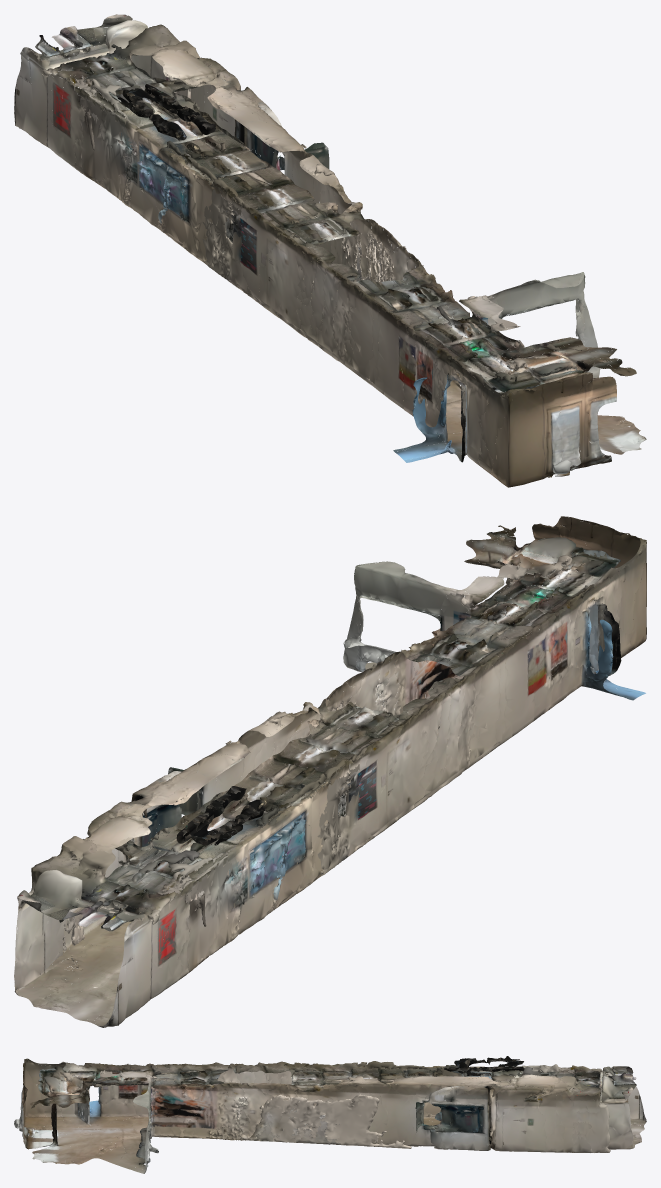
Rendered from floor_parts.fbx.
3 renders of one model, top to bottom at view 1: azimuth 30°, elevation 25°; view 2: azimuth 150°, elevation 25°; view 3: azimuth 270°, elevation 25°, orthographic. The views are drawn at different scales.
Parts seen in each view (by area): view 1: floor.002, floor.001, floor.003, floor.004, floor.005; view 2: floor.002, floor.003, floor.001, floor.004, floor.005; view 3: floor.002, floor.003, floor.001, floor.004, floor.005.
Boxes of the visible parts, x1=… form: floor.002: x1=14, y1=14, x2=274, y2=231; floor.001: x1=376, y1=297, x2=646, y2=487; floor.003: x1=152, y1=107, x2=385, y2=344; floor.004: x1=291, y1=221, x2=450, y2=394; floor.005: x1=420, y1=272, x2=644, y2=452; floor.002: x1=14, y1=776, x2=278, y2=1027; floor.003: x1=157, y1=689, x2=431, y2=910; floor.001: x1=460, y1=516, x2=646, y2=737; floor.004: x1=334, y1=636, x2=512, y2=797; floor.005: x1=343, y1=546, x2=567, y2=724; floor.002: x1=453, y1=1056, x2=646, y2=1152; floor.003: x1=274, y1=1059, x2=462, y2=1149; floor.001: x1=14, y1=1058, x2=190, y2=1162; floor.004: x1=179, y1=1061, x2=291, y2=1141; floor.005: x1=40, y1=1070, x2=188, y2=1173.
Bounding box in the file's own units: 749 × 334 × 2761.
